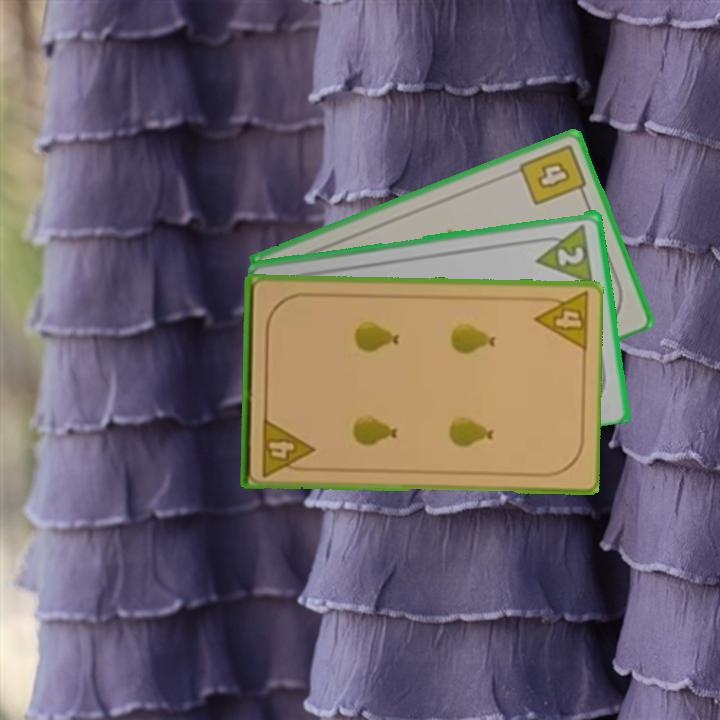2p: (530, 220, 596, 285)
4b: (515, 140, 590, 208)
4p: (529, 288, 590, 354), (258, 414, 315, 479)
